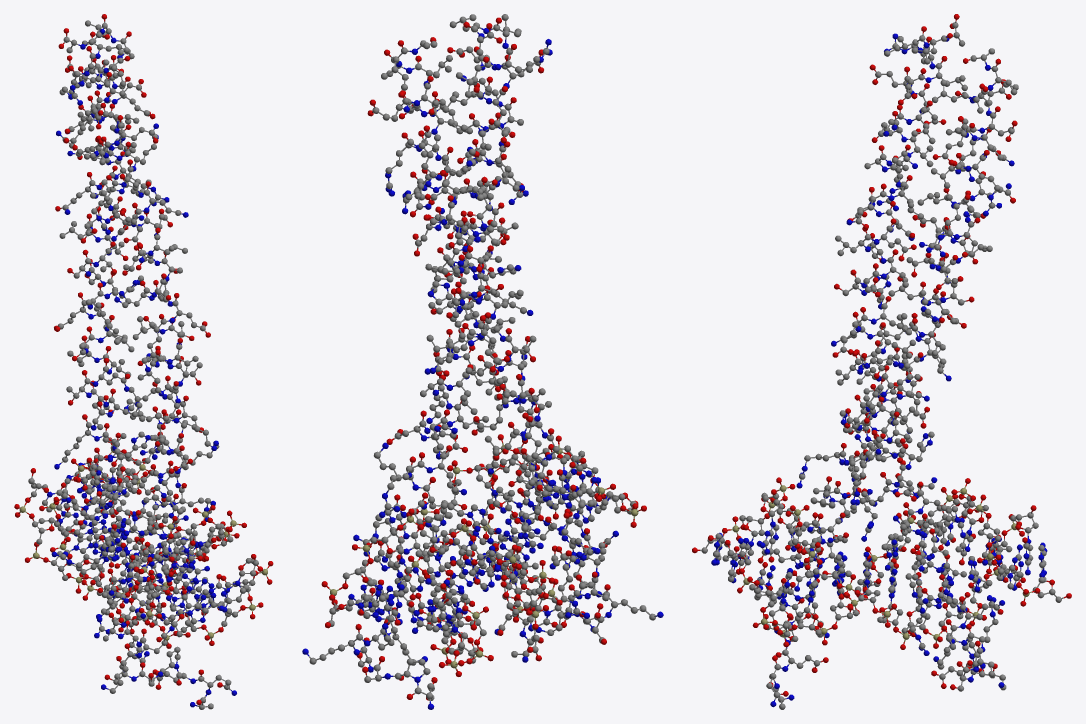
The model's file is all-cpk.glb.
The picture shows the model from 3 angles, left to right: view 1: azimuth 30°, elevation 25°; view 2: azimuth 150°, elevation 25°; view 3: azimuth 270°, elevation 25°; orthographic projection. The views are drawn at different scales.
Parts seen in each view (by area): view 1: vmd_mol0_rep7; view 2: vmd_mol0_rep7; view 3: vmd_mol0_rep7.
Boxes of the visible parts, x1=… form: vmd_mol0_rep7: x1=14, y1=14, x2=273, y2=709; vmd_mol0_rep7: x1=302, y1=14, x2=663, y2=709; vmd_mol0_rep7: x1=692, y1=14, x2=1071, y2=709.
Size of the model in its own units: 0.6283 by 1.88 by 0.9767.
